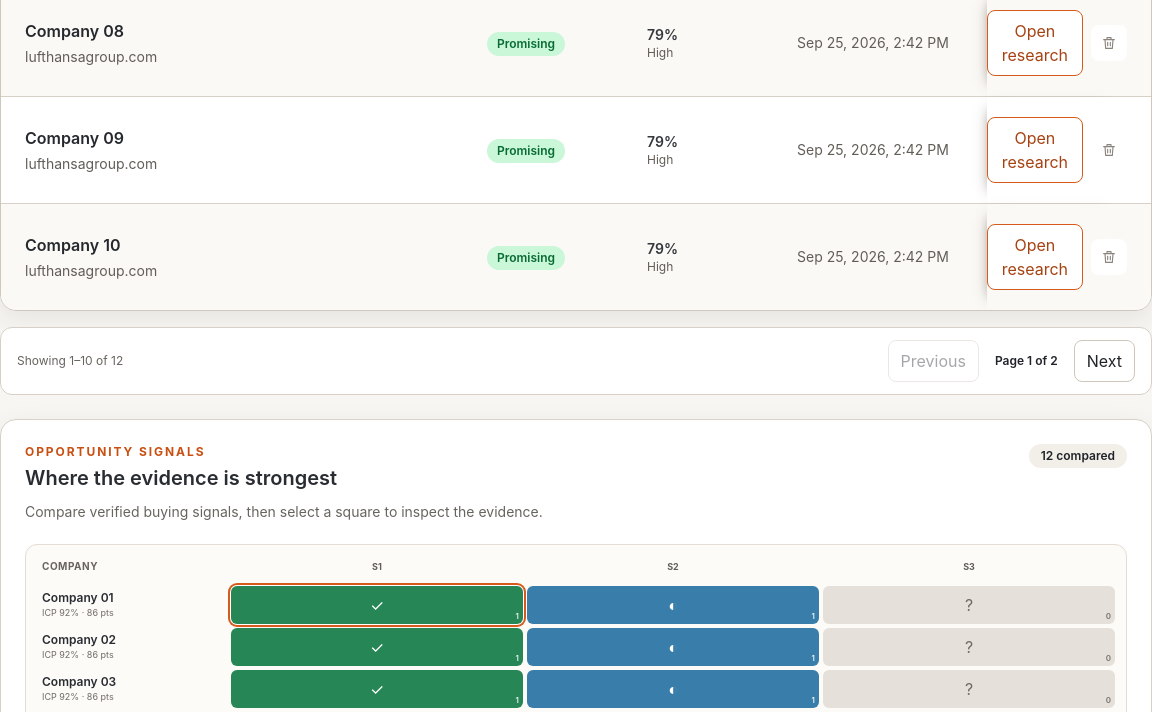
it: paginates research history ten companies at a time
(page scrolled)
Expected: the text "Company 11" is not shown
Expected: the text "Showing 1–10 of 12" is shown, [17, 352, 123, 368]
Click the button "Next": (1104, 360) [1074, 340, 1135, 382]
(page scrolled)
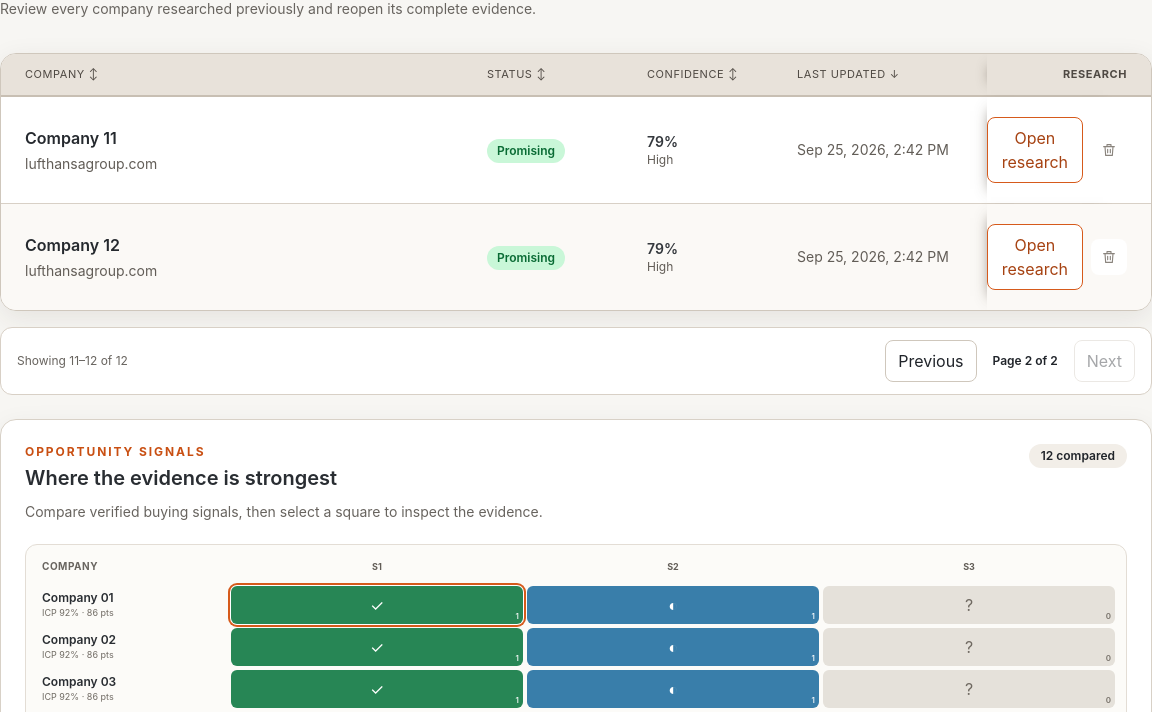
Expected: the number of list items is 2, [1, 96, 1151, 204]; [1, 204, 1151, 310]
Expected: the heading "Company 11" is shown, [25, 128, 117, 148]
Expected: the text "Page 2 of 2" is shown, [992, 352, 1058, 368]
